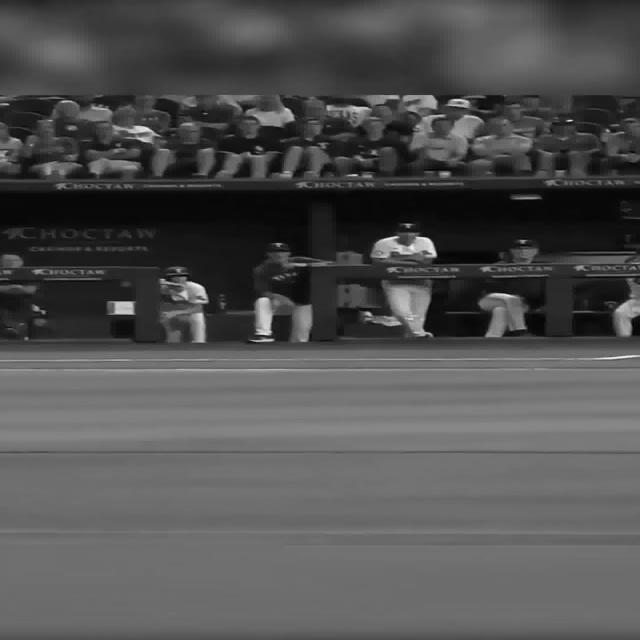shoe: (247, 335, 274, 343), (510, 329, 533, 337), (410, 332, 433, 338)
